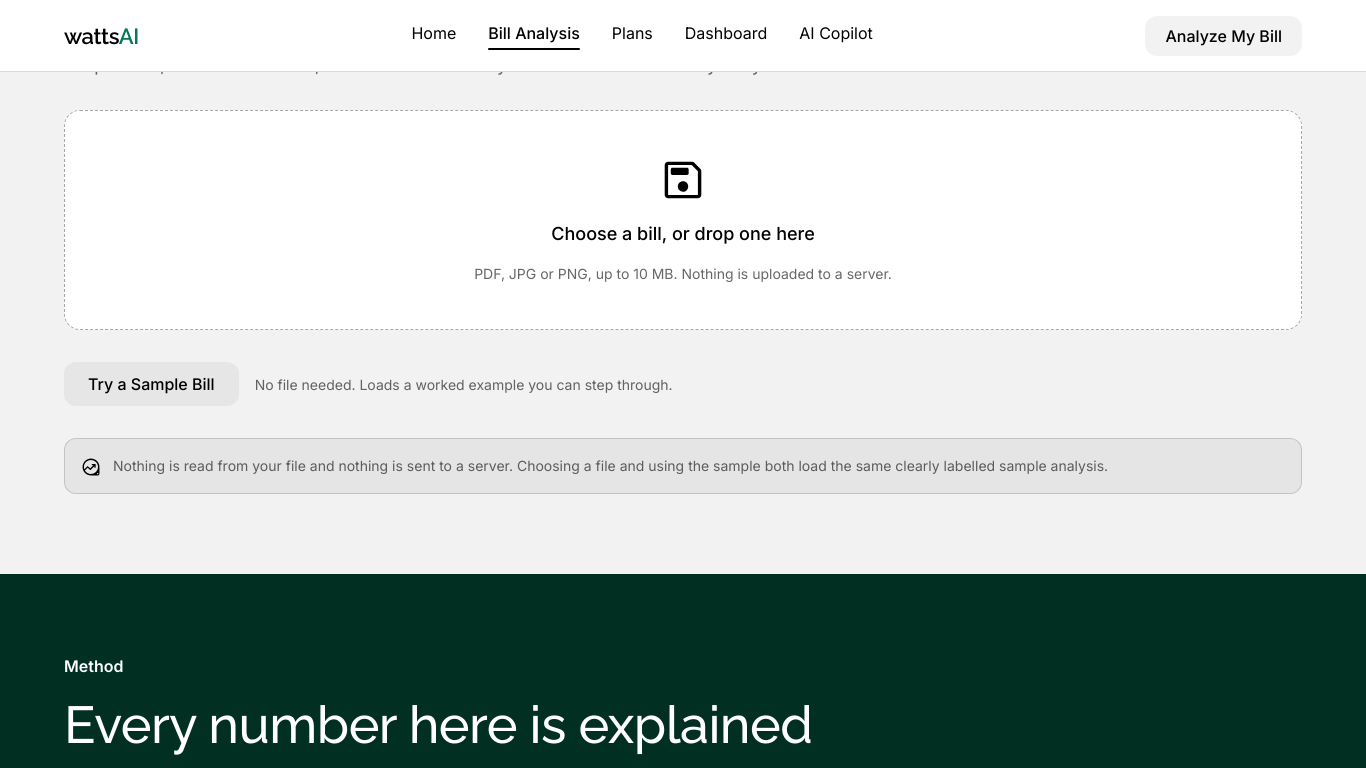
Test: review step › shows every extracted field
(page scrolled)
Click the button "Try a Sample Bill" at (151, 384), box [64, 362, 239, 406]
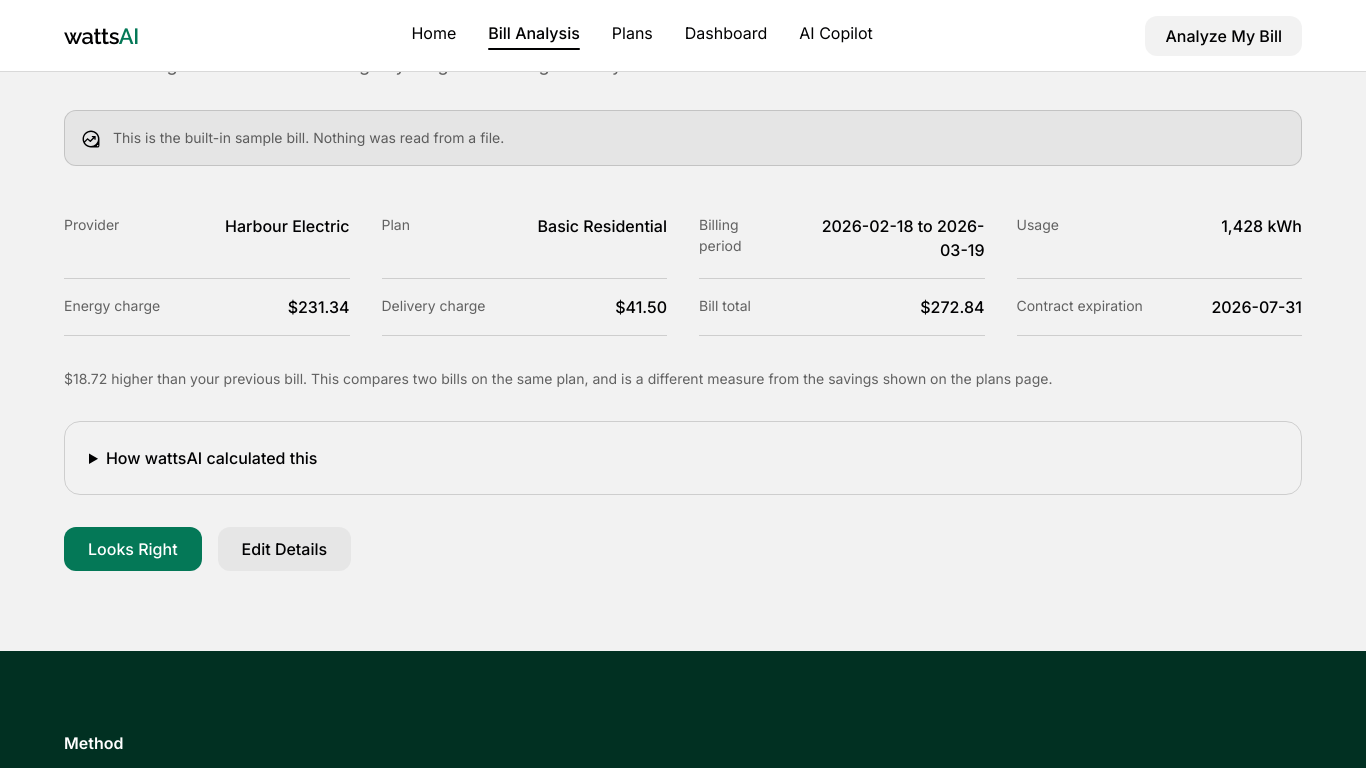
Expected: the text "Harbour Electric" is shown, [225, 216, 350, 236]
Expected: the text "Provider" is shown, [64, 216, 119, 233]
Expected: the text "Plan" is shown, [382, 216, 410, 233]
